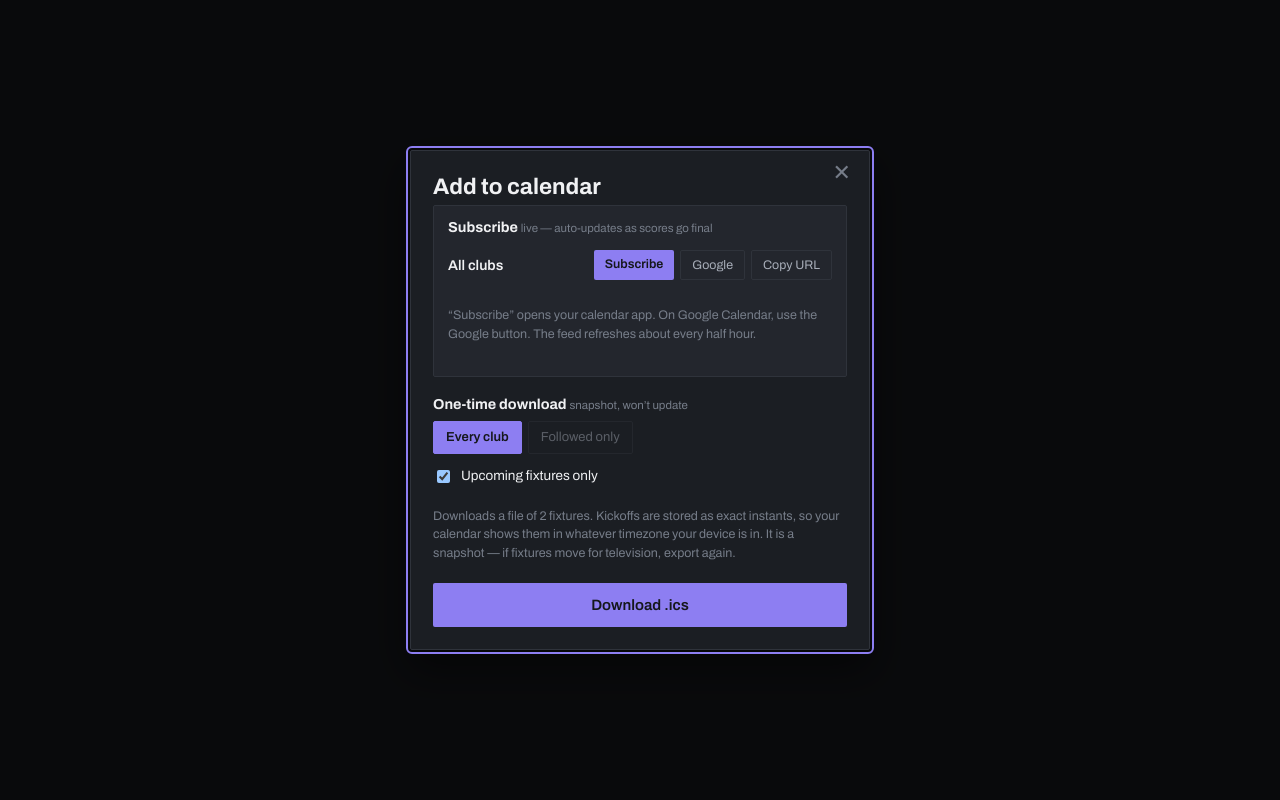
Scenario: CalendarModal › includes past fixtures when the upcoming-only filter is unticked
Click the checkbox labelled "Upcoming fixtures only": (444, 476) [437, 470, 450, 483]
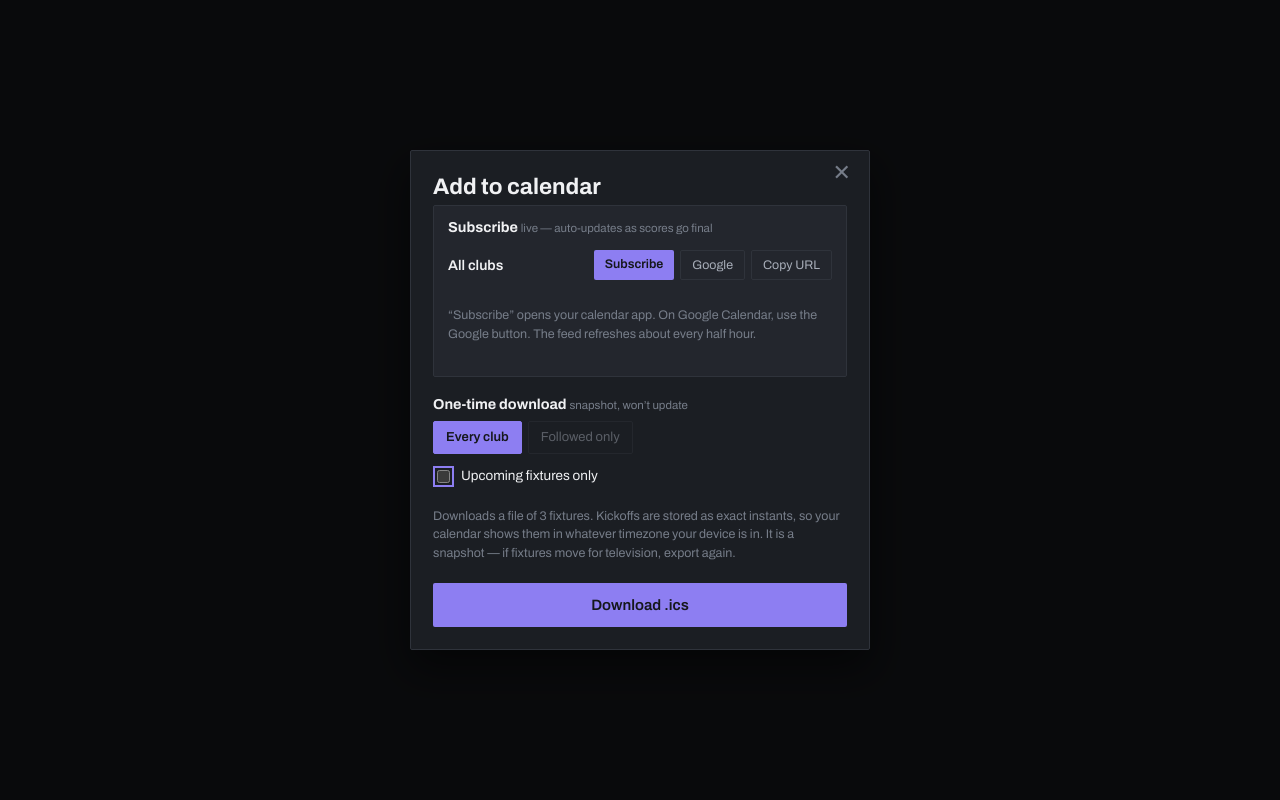
Result: the checkbox labelled "Upcoming fixtures only" is not checked at [437, 470, 450, 483]
Result: the text "Downloads a file of 3 fixtures" is shown at [433, 499, 847, 571]
